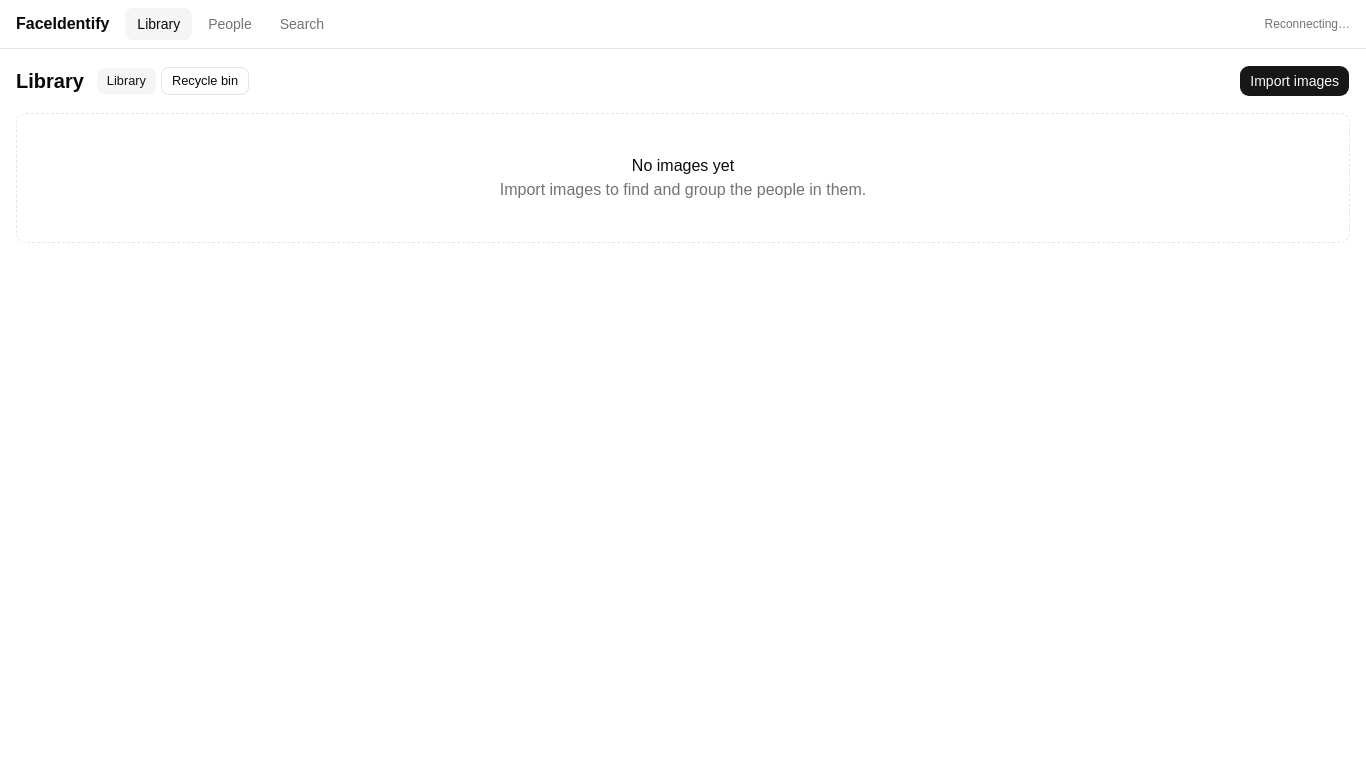
importing › deleting an image in the recycle bin for good › moves focus to the safe answer, and gives it back on Escape
This screenshot has width=1366, height=768.
Click the button "Recycle bin" at (205, 81), box [161,67,249,95]
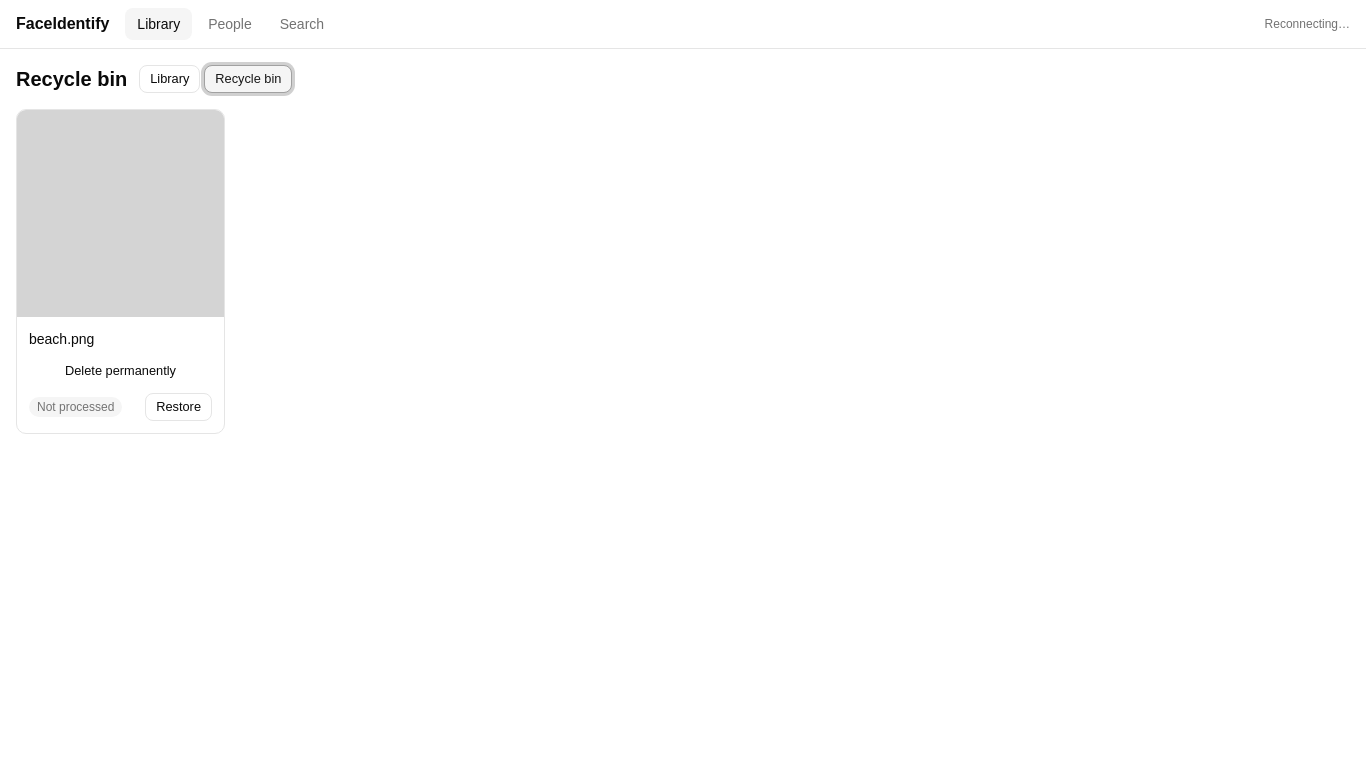
Click the button with aria-label "Delete beach.png permanently" at (120, 371), box [29,357,212,385]
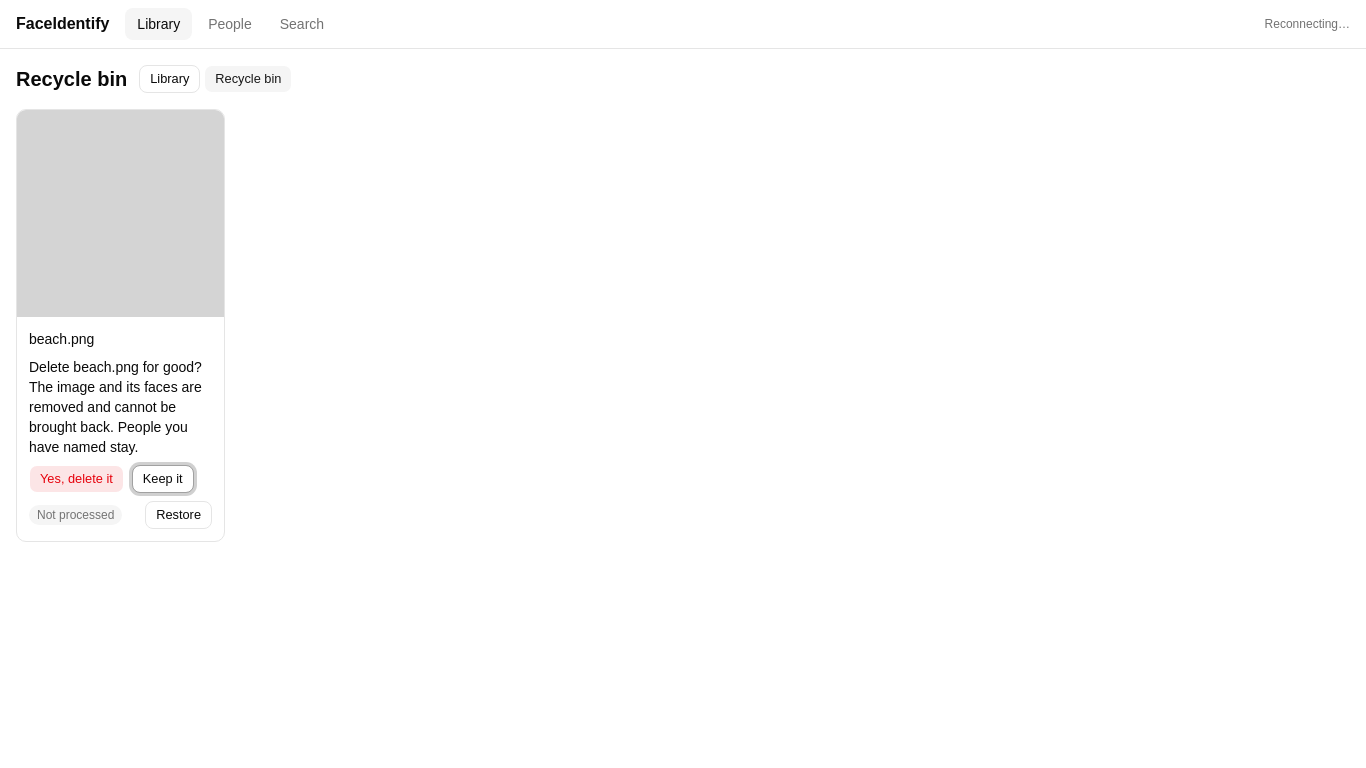
Press Escape
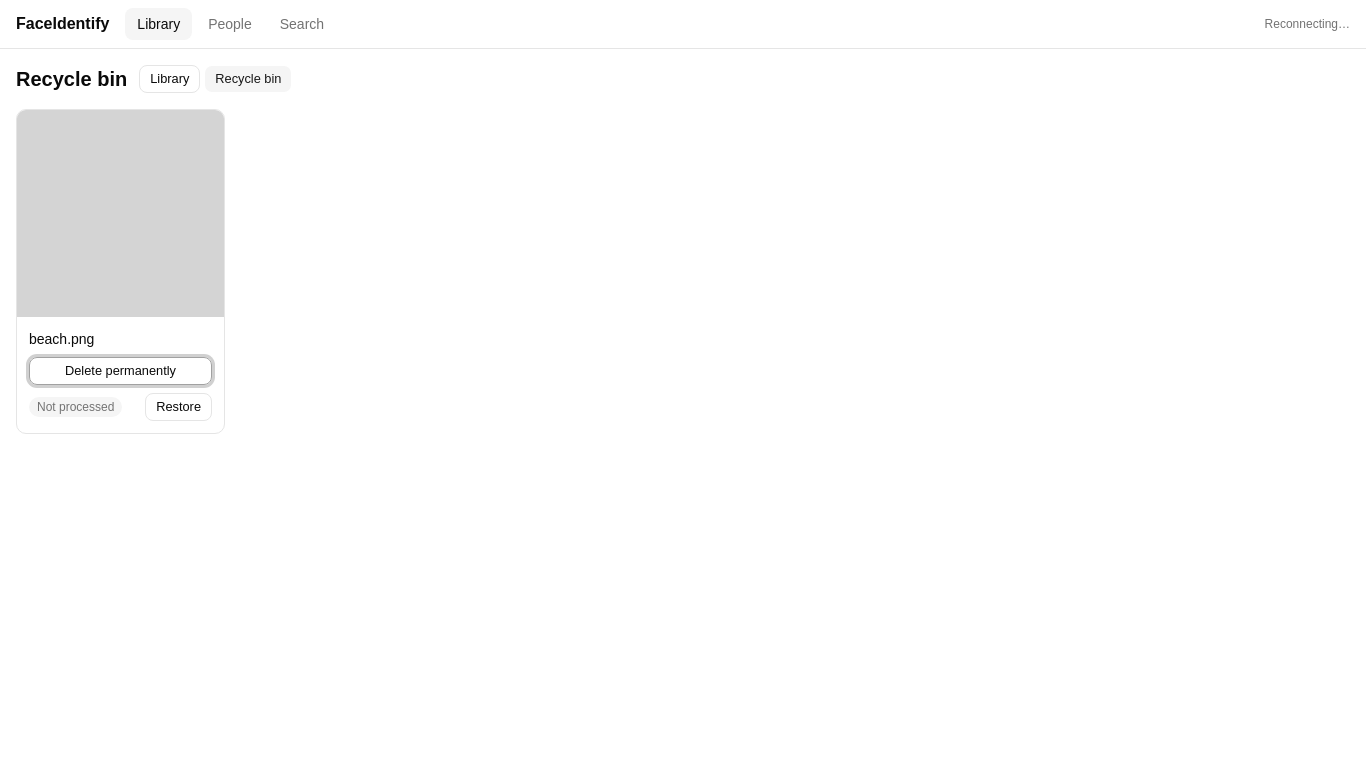
Check: the dialog is gone
